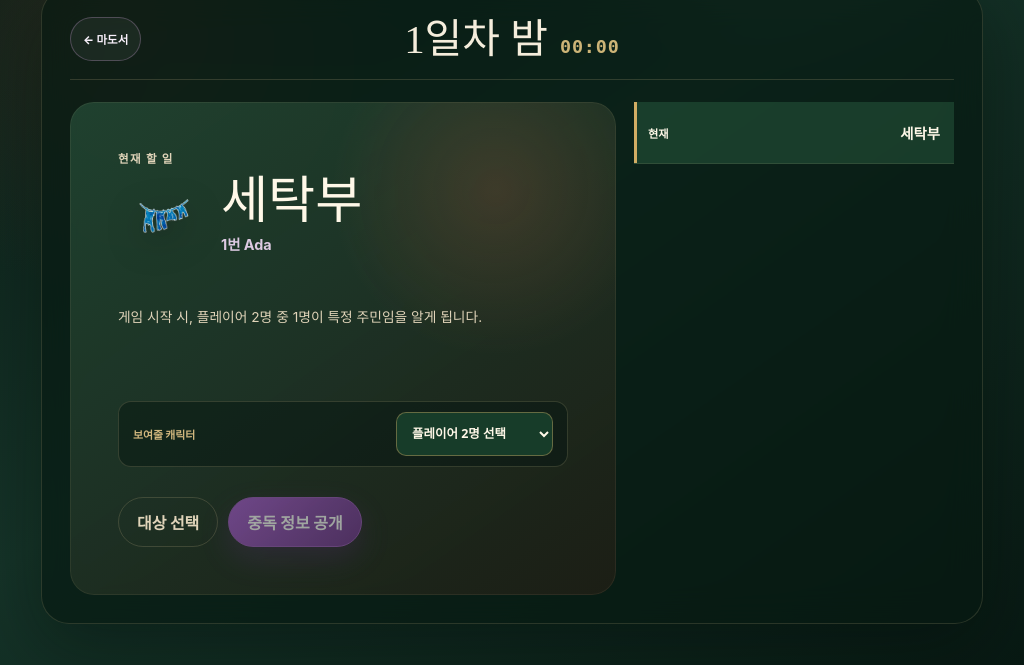
Test case: 중독된 setup 정보는 건강할 때 불가능한 좌석 조합도 선택할 수 있다
(page scrolled)
Click the button "대상 선택": (168, 522) [118,497,218,547]
(page scrolled)
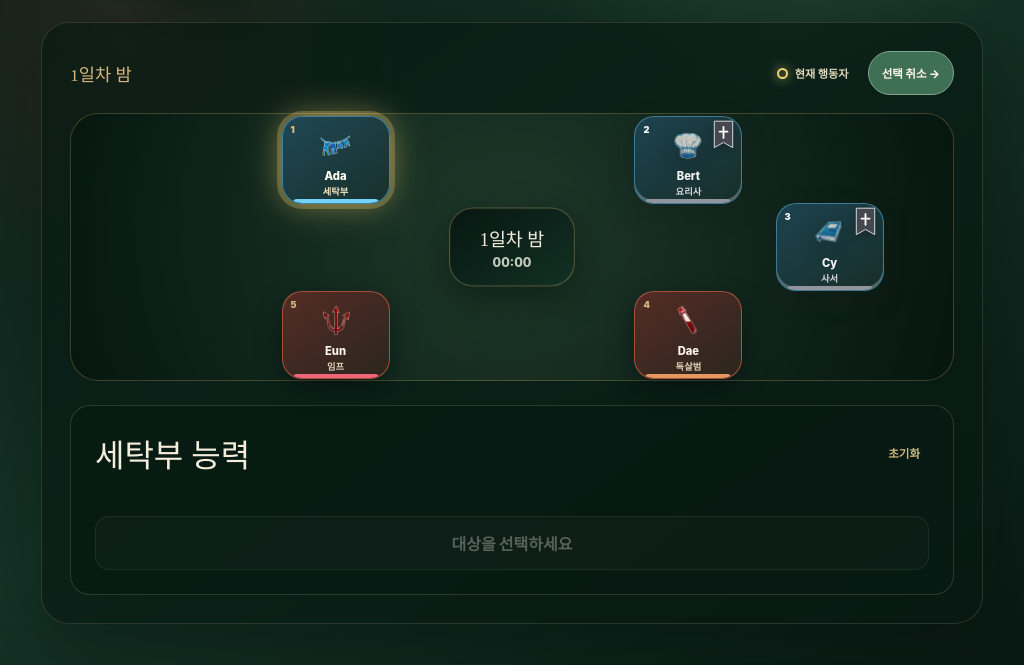
Click the button "4 Dae 독살범": (688, 335) [634,291,742,379]
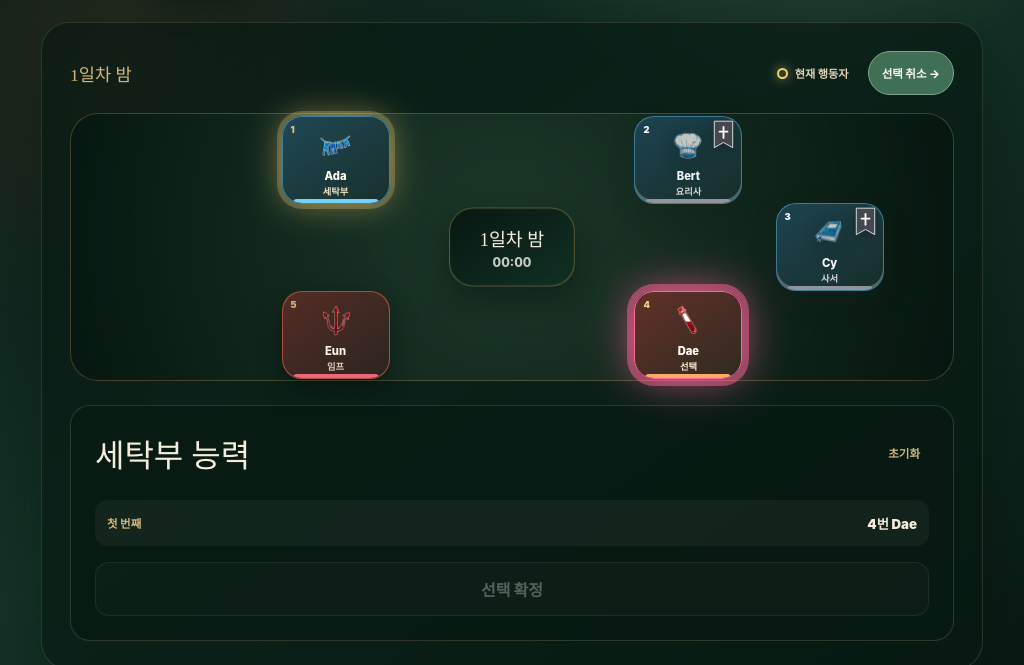
Click the button "5 Eun 임프": (336, 335) [282,291,390,379]
(page scrolled)
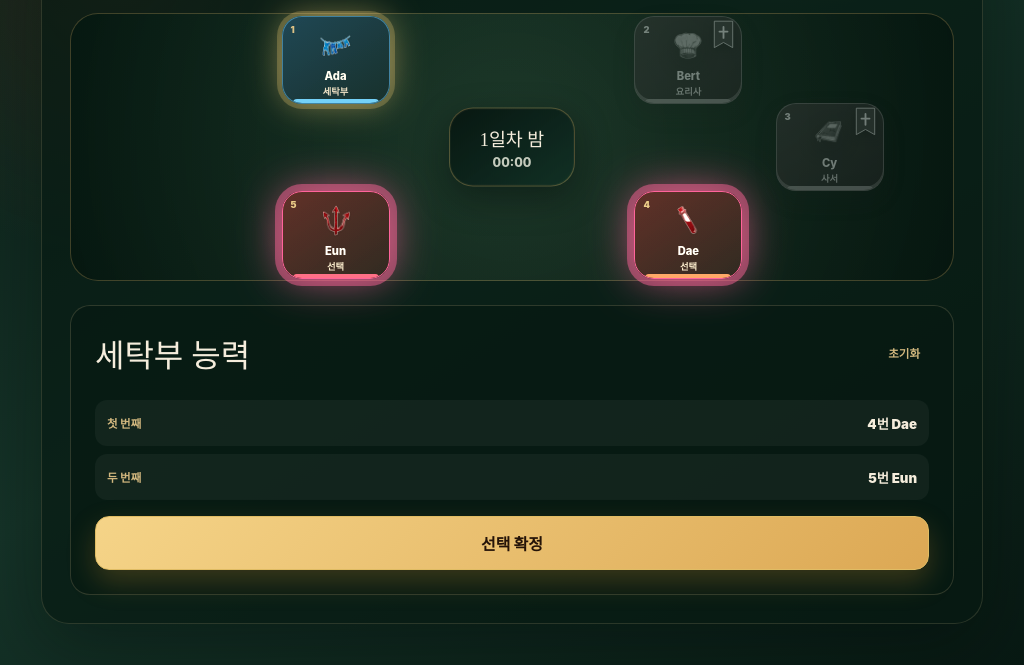
Now the button "선택 확정" is enabled, box [95,516,929,570]
